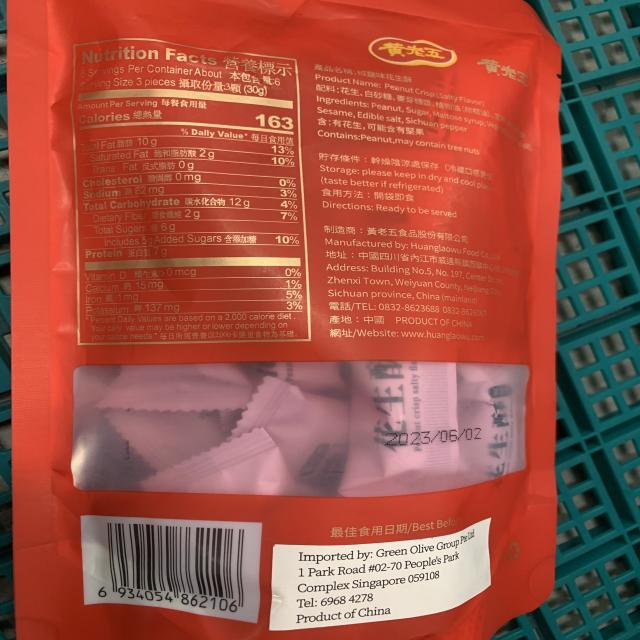object_name: (12, 1, 548, 640)
